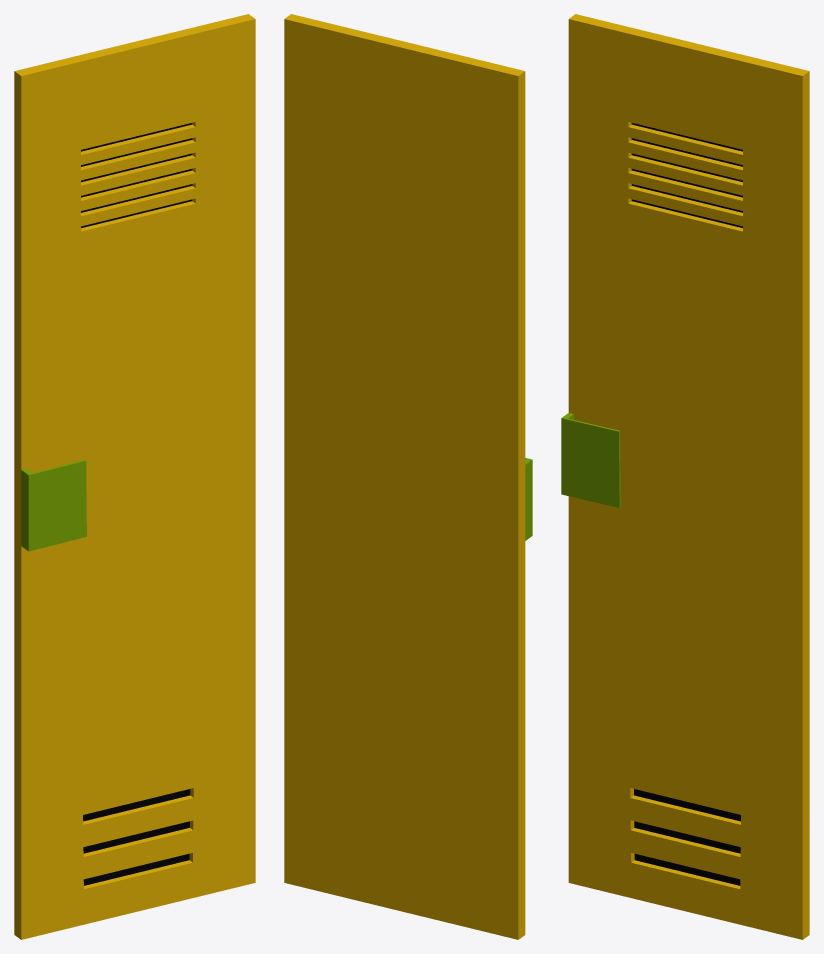
The model's file is CasierPorte.fbx.
3 renders of one model, left to right at view 1: azimuth 30°, elevation 25°; view 2: azimuth 150°, elevation 25°; view 3: azimuth 330°, elevation 25°, orthographic.
Visible parts, largest first — view 1: polySurface4; view 2: polySurface4; view 3: polySurface4.
Part boxes in pixels (<box>): polySurface4: <box>14,14,255,939</box>; polySurface4: <box>284,14,532,939</box>; polySurface4: <box>561,14,809,939</box>.
Bounding box in the file's own units: 39.2 × 138 × 4.11.
